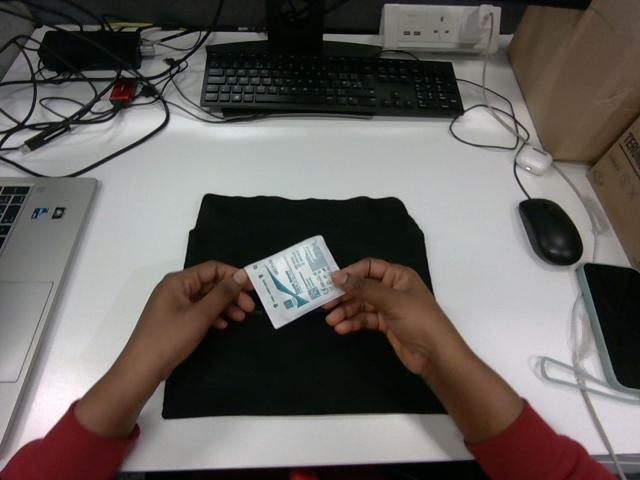gauze: (245, 235, 343, 328)
